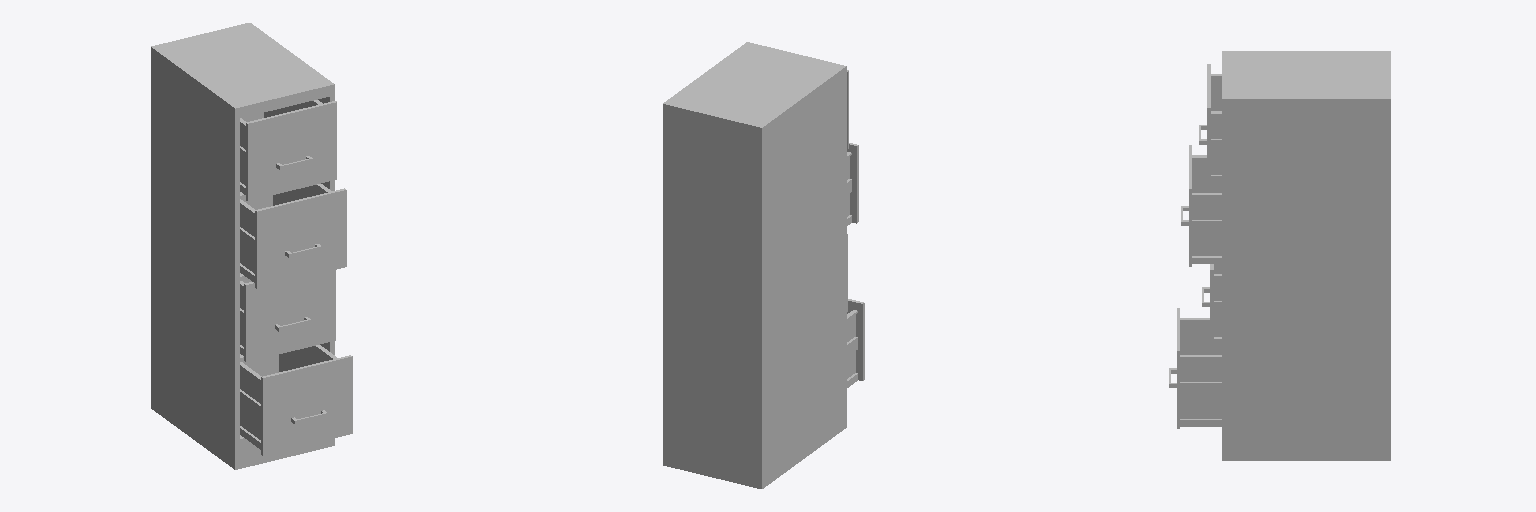
File: filing-cabinet.obj
3 views of the same model, side by side, from view 1: azimuth 30°, elevation 25°; view 2: azimuth 150°, elevation 25°; view 3: azimuth 270°, elevation 25° (orthographic).
Parts seen in each view (by area): view 1: cabinet_low, drawer_04_low, drawer_02_low, drawer_01_low, drawer_03_low; view 2: cabinet_low, drawer_04_low, drawer_02_low; view 3: cabinet_low, drawer_04_low, drawer_02_low, drawer_01_low, drawer_03_low.
Boxes of the visible parts, box(x1,y1,x2,y2) form: cabinet_low: box(151, 23, 334, 469); drawer_04_low: box(240, 345, 352, 455); drawer_02_low: box(240, 184, 346, 288); drawer_01_low: box(240, 100, 336, 200); drawer_03_low: box(240, 270, 335, 361); cabinet_low: box(663, 42, 846, 488); drawer_04_low: box(847, 299, 864, 387); drawer_02_low: box(847, 143, 858, 225); cabinet_low: box(1222, 51, 1390, 460); drawer_04_low: box(1169, 308, 1221, 428); drawer_02_low: box(1181, 145, 1221, 266); drawer_01_low: box(1199, 64, 1221, 185); drawer_03_low: box(1202, 264, 1221, 347).
Size of the model in its own units: 0.38 by 1.32 by 0.7358.